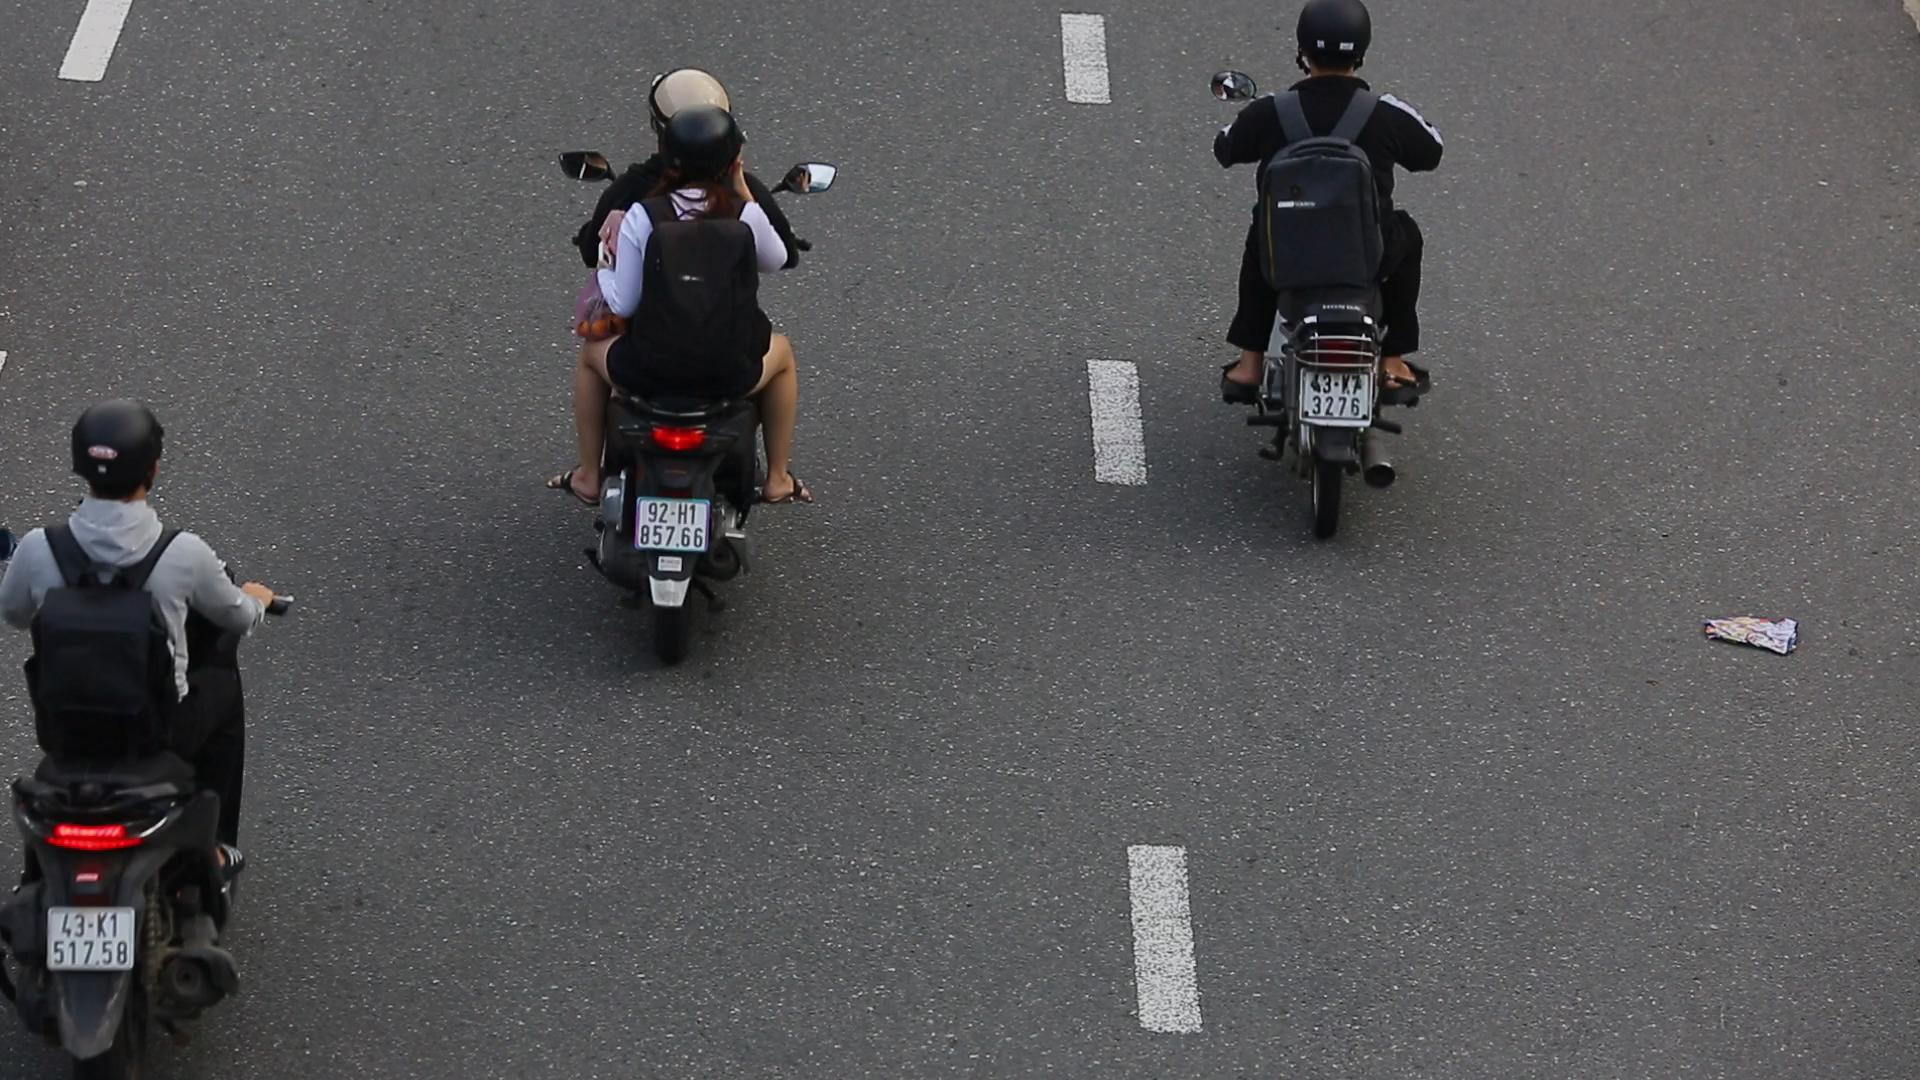motobike: (522, 46, 864, 680), (4, 384, 309, 1058), (1176, 0, 1494, 583)
